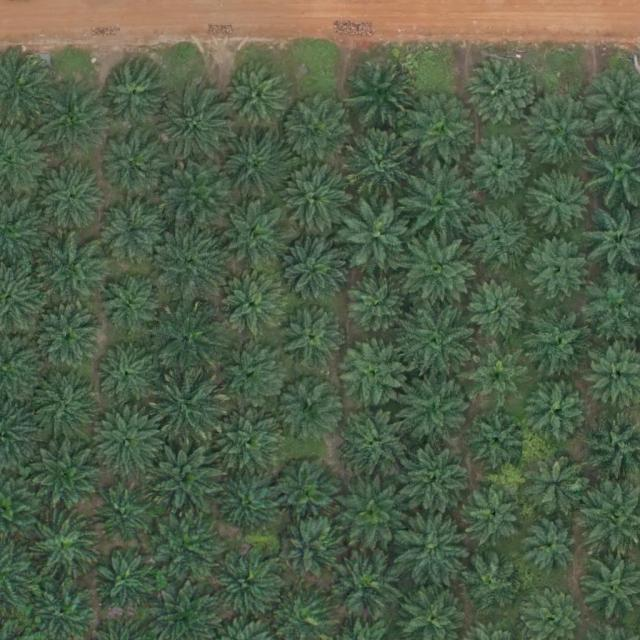Healthy: (524, 305, 595, 376), (394, 520, 465, 591), (340, 405, 411, 476), (335, 336, 406, 407), (342, 199, 413, 270), (280, 95, 351, 166), (281, 160, 352, 231), (222, 202, 293, 273), (150, 226, 221, 297), (85, 548, 156, 619), (30, 303, 101, 374), (528, 96, 598, 167), (462, 202, 532, 273), (467, 60, 538, 130), (407, 234, 477, 305), (403, 307, 473, 378), (404, 377, 474, 448), (330, 556, 400, 627), (336, 478, 407, 548), (344, 127, 414, 198), (277, 305, 347, 376), (210, 409, 280, 480), (217, 339, 287, 410), (221, 270, 291, 341), (217, 132, 287, 203), (159, 91, 229, 162), (163, 161, 233, 232), (152, 448, 222, 519), (151, 516, 221, 587), (94, 407, 164, 478), (98, 60, 168, 131), (99, 128, 170, 198), (32, 88, 103, 158), (29, 376, 99, 447), (31, 443, 101, 514), (27, 511, 97, 582), (404, 98, 474, 168), (406, 170, 476, 240), (401, 443, 471, 513), (349, 58, 419, 128), (277, 239, 347, 309), (274, 373, 344, 443), (272, 457, 342, 527), (217, 547, 287, 617), (155, 304, 225, 374), (33, 164, 103, 234), (42, 234, 112, 304), (529, 168, 592, 231), (529, 384, 592, 447), (529, 237, 591, 300), (527, 454, 589, 517), (464, 484, 527, 546), (469, 406, 531, 469), (465, 276, 527, 339), (468, 131, 530, 194), (345, 274, 408, 336), (282, 518, 344, 581), (219, 478, 281, 541), (223, 66, 285, 129), (95, 486, 157, 549), (95, 340, 157, 403), (99, 277, 162, 339), (103, 205, 165, 268), (468, 343, 530, 405), (463, 555, 518, 610), (523, 520, 577, 575)
Yellow: (156, 374, 226, 445)
